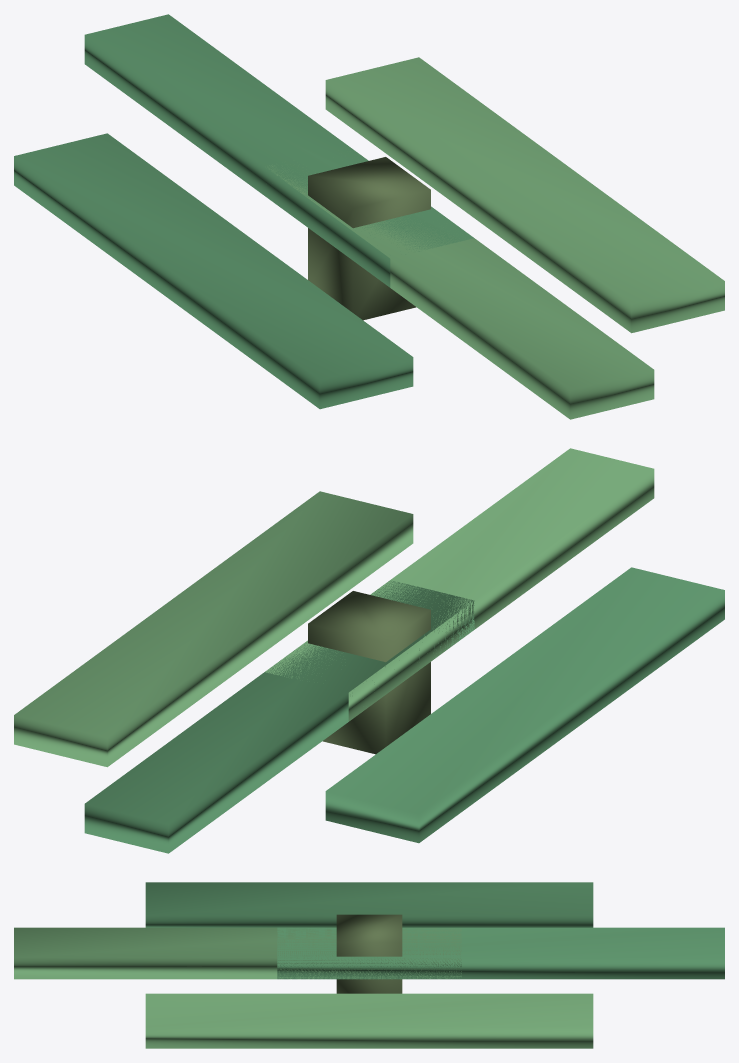
File: fern_clump.glb
The picture shows the model from 3 angles, top to bottom: view 1: azimuth 30°, elevation 25°; view 2: azimuth 150°, elevation 25°; view 3: azimuth 270°, elevation 25°; orthographic projection. The views are drawn at different scales.
Parts seen in each view (by area): view 1: fern_clump; view 2: fern_clump; view 3: fern_clump.
Part boxes in pixels (x1=…): fern_clump: x1=14, y1=14, x2=724, y2=419; fern_clump: x1=14, y1=448, x2=724, y2=853; fern_clump: x1=14, y1=882, x2=724, y2=1048.
Size of the model in its own units: 0.26 by 0.07 by 0.54.
